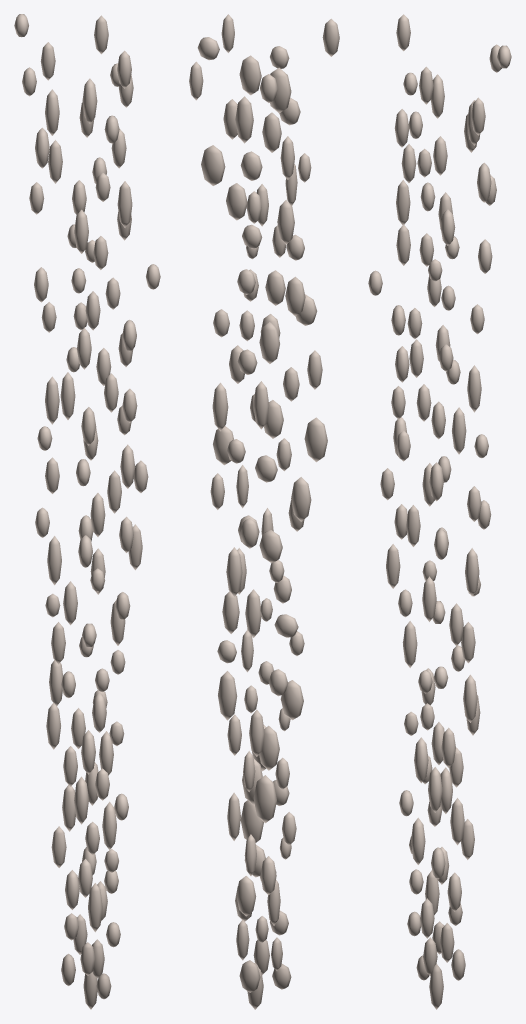
File: geyser-plume.glb
3 views of the same model, side by side, from view 1: azimuth 90°, elevation 25°; view 2: azimuth 150°, elevation 25°; view 3: azimuth 270°, elevation 25° (orthographic). The views are drawn at different scales.
Parts seen in each view (by area): view 1: Sugar geyser spray.044, Sugar geyser spray.009, Sugar geyser spray.016, Sugar geyser spray.060, Sugar geyser spray.062, Sugar geyser spray.020, Sugar geyser spray.028, Sugar geyser spray.082, Sugar geyser spray.091, Sugar geyser spray.093, Sugar geyser spray.031, Sugar geyser spray.018 (+45 smaller); view 2: Sugar geyser spray.020, Sugar geyser spray.056, Sugar geyser spray.086, Sugar geyser spray.031, Sugar geyser spray.051, Sugar geyser spray.030, Sugar geyser spray.092, Sugar geyser spray.091, Sugar geyser spray.016, Sugar geyser spray.067, Sugar geyser spray.025, Sugar geyser spray.093 (+52 smaller); view 3: Sugar geyser spray.031, Sugar geyser spray.044, Sugar geyser spray.016, Sugar geyser spray.018, Sugar geyser spray.060, Sugar geyser spray.037, Sugar geyser spray.062, Sugar geyser spray.021, Sugar geyser spray.024, Sugar geyser spray.082, Sugar geyser spray.042, Sugar geyser spray (+38 smaller).
Part boxes in pixels (<box>): Sugar geyser spray.044: <box>47,536,61,585</box>; Sugar geyser spray.009: <box>88,883,102,932</box>; Sugar geyser spray.016: <box>102,801,116,850</box>; Sugar geyser spray.060: <box>60,372,75,419</box>; Sugar geyser spray.062: <box>45,376,59,424</box>; Sugar geyser spray.020: <box>74,776,88,824</box>; Sugar geyser spray.028: <box>46,702,60,749</box>; Sugar geyser spray.082: <box>117,181,132,227</box>; Sugar geyser spray.091: <box>45,89,59,135</box>; Sugar geyser spray.093: <box>82,78,97,123</box>; Sugar geyser spray.031: <box>49,660,62,705</box>; Sugar geyser spray.018: <box>62,785,75,831</box>; Sugar geyser spray.020: <box>253,775,276,823</box>; Sugar geyser spray.056: <box>304,417,327,462</box>; Sugar geyser spray.086: <box>201,145,225,185</box>; Sugar geyser spray.031: <box>218,671,237,720</box>; Sugar geyser spray.051: <box>291,477,311,521</box>; Sugar geyser spray.030: <box>280,680,303,720</box>; Sugar geyser spray.092: <box>239,55,261,95</box>; Sugar geyser spray.091: <box>235,96,253,143</box>; Sugar geyser spray.016: <box>240,800,263,842</box>; Sugar geyser spray.067: <box>259,322,279,363</box>; Sugar geyser spray.025: <box>259,725,279,770</box>; Sugar geyser spray.093: <box>270,67,291,113</box>; Sugar geyser spray.031: <box>463,674,477,722</box>; Sugar geyser spray.044: <box>465,548,479,596</box>; Sugar geyser spray.016: <box>411,817,425,864</box>; Sugar geyser spray.018: <box>450,798,464,845</box>; Sugar geyser spray.060: <box>452,407,466,454</box>; Sugar geyser spray.037: <box>403,621,417,667</box>; Sugar geyser spray.062: <box>467,365,481,412</box>; Sugar geyser spray.021: <box>428,767,442,812</box>; Sugar geyser spray.024: <box>414,737,428,783</box>; Sugar geyser spray.082: <box>396,180,410,225</box>; Sugar geyser spray.042: <box>422,576,436,621</box>; Sugar geyser spray: <box>429,964,443,1009</box>.
Bounding box in the file's own units: 0.5861 × 5.13 × 0.6877.
